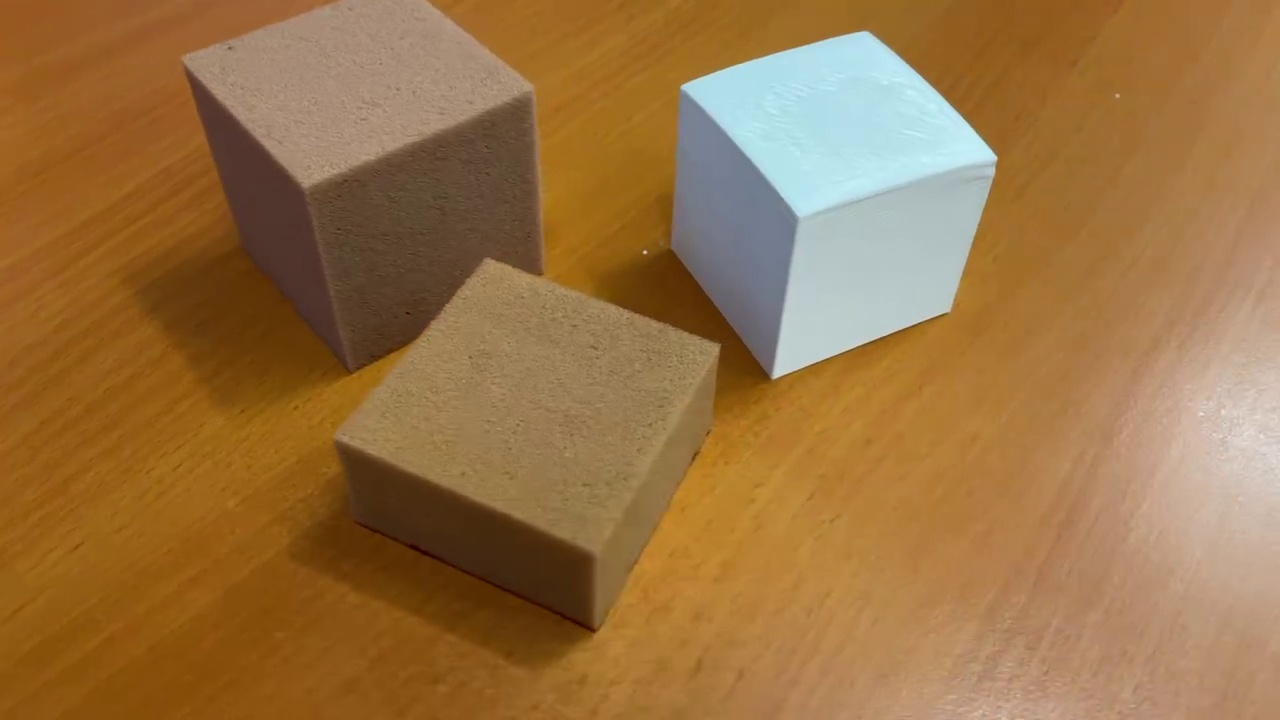Cube: (175, 1, 547, 374), (660, 24, 1006, 387)
Cube_short: (323, 252, 722, 639)
